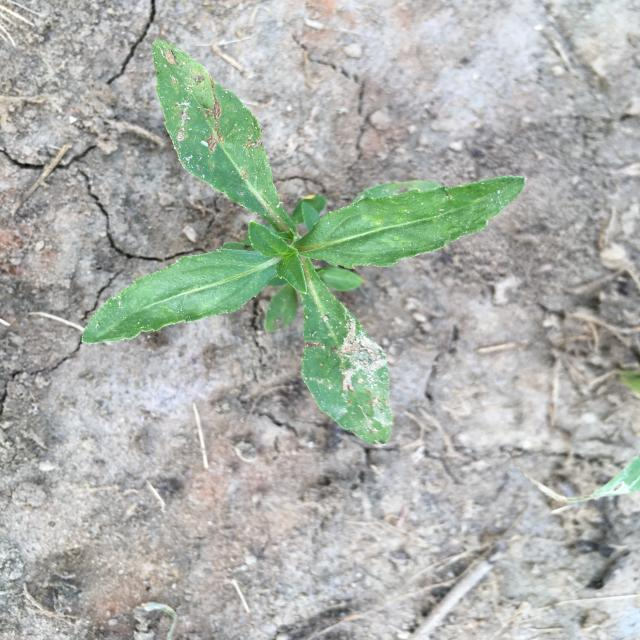Eclipta: (81, 39, 526, 446)
